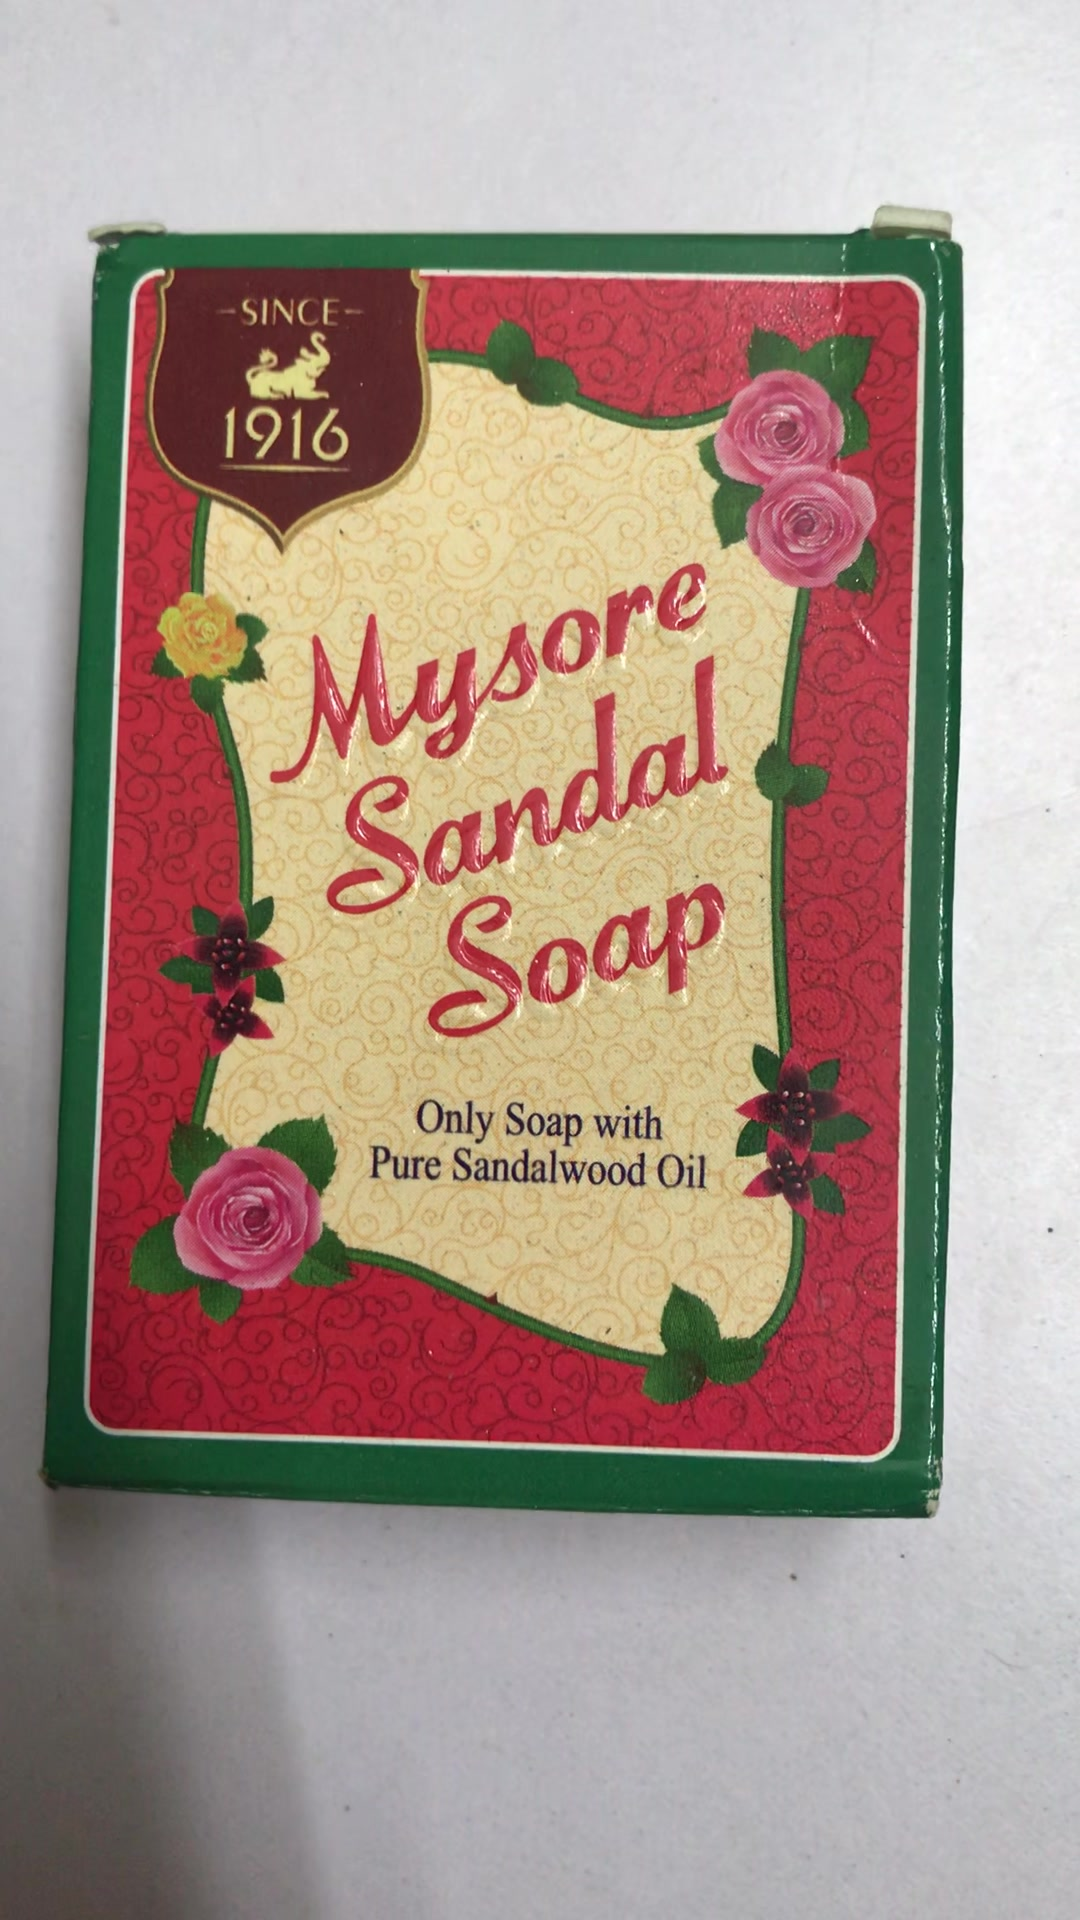mysore sandal soap: (40, 229, 965, 1524)
